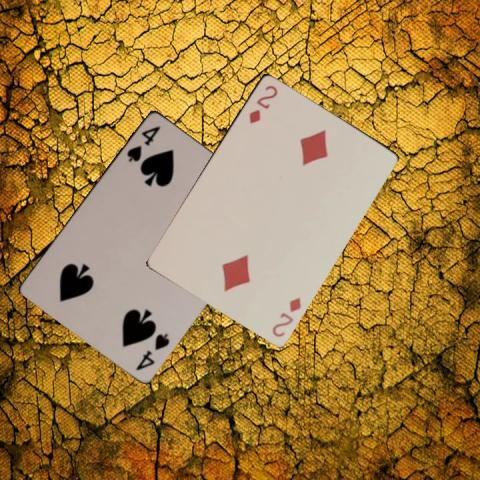2d: (269, 293, 302, 339), (246, 82, 280, 126)
4s: (133, 329, 171, 372), (123, 122, 162, 163)
